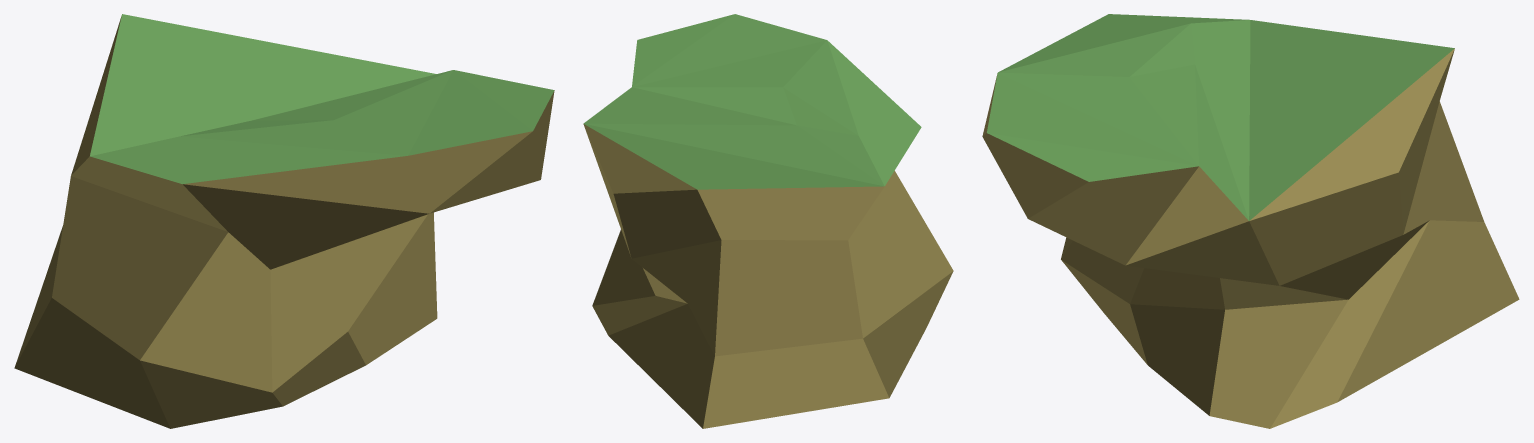
Rendered from low poly rock big 2.fbx.
3 views of the same model, side by side, from view 1: azimuth 30°, elevation 25°; view 2: azimuth 150°, elevation 25°; view 3: azimuth 270°, elevation 25° (orthographic). The views are drawn at different scales.
Parts seen in each view (by area): view 1: Plane.016; view 2: Plane.016; view 3: Plane.016.
Part boxes in pixels (box(x1,y1,x2,y2)): Plane.016: box(14, 14, 554, 428); Plane.016: box(583, 14, 953, 428); Plane.016: box(982, 14, 1519, 428).
Size of the model in its own units: 633 by 384 by 675.
